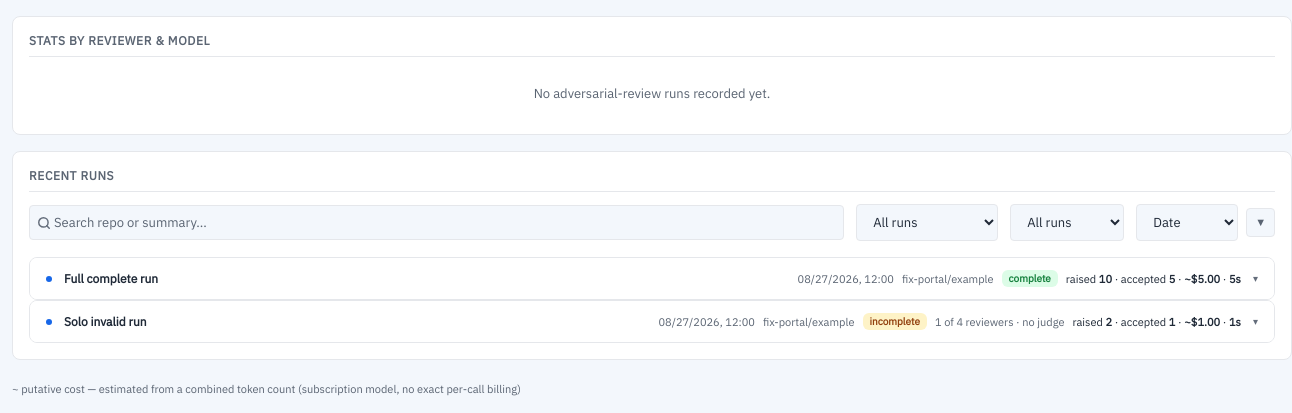
Scenario: AdversarialReviewPanel run status filters › filters to incomplete runs
This screenshot has width=1292, height=413.
Select "Incomplete only" in the dropdown named "Filter runs by completeness" at (927, 222), box [856, 204, 998, 241]
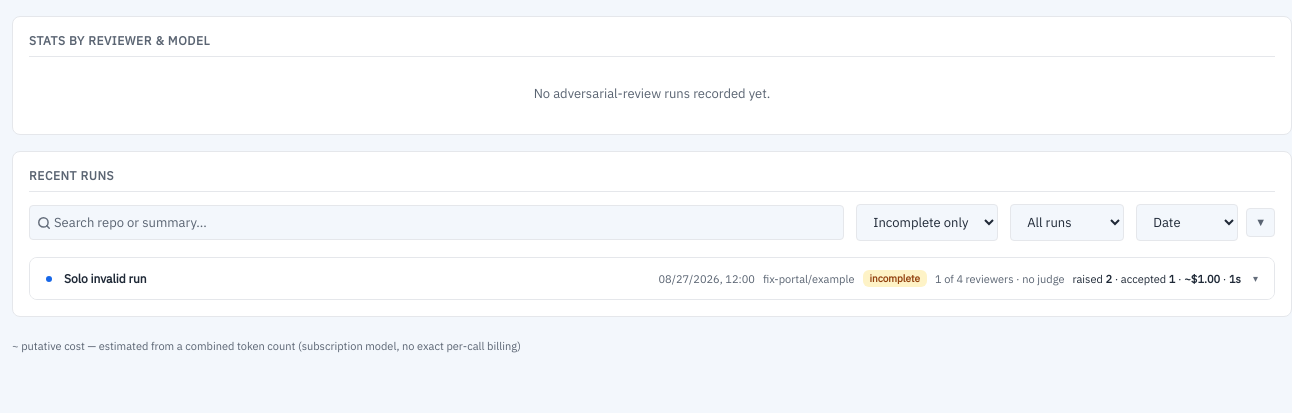
Expected: the text "Solo invalid run" is shown, [64, 271, 146, 286]
Now the button "Full complete run" is gone
